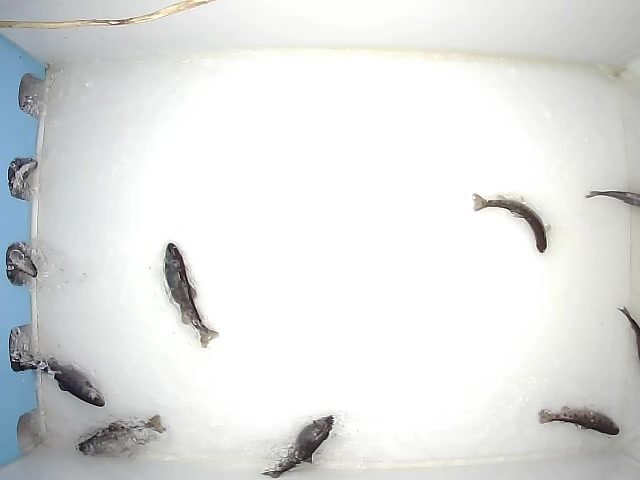fish: (162, 241, 222, 350), (258, 412, 336, 478), (471, 192, 553, 254), (21, 353, 106, 407), (75, 410, 168, 458), (535, 405, 621, 437)
